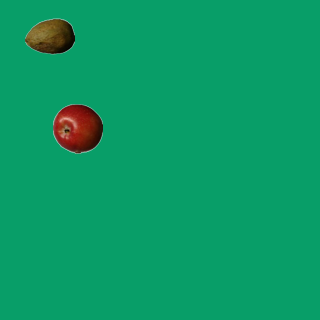Apple Braeburn: (52, 103, 102, 153)
Papaya: (24, 11, 74, 61)
